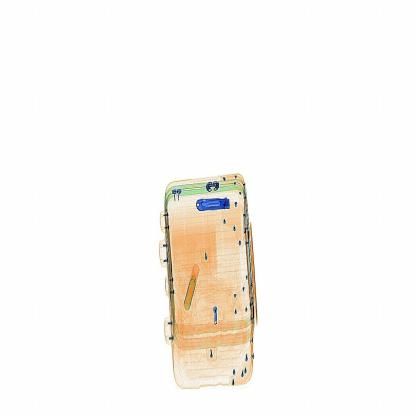knife: (192, 192, 236, 221)
